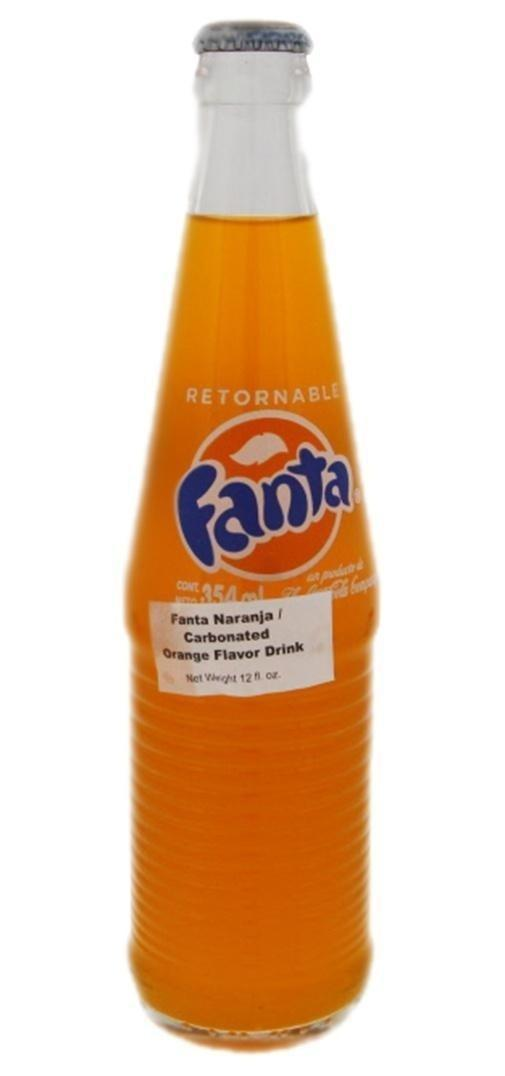bottle-glass: (113, 10, 388, 1063)
